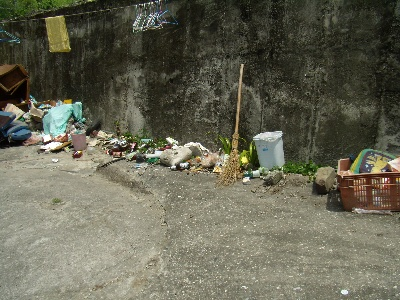box: (1, 64, 28, 91), (28, 101, 56, 121)
bucket: (252, 130, 285, 170), (71, 129, 87, 152)
plastic_bag: (43, 105, 73, 134)
